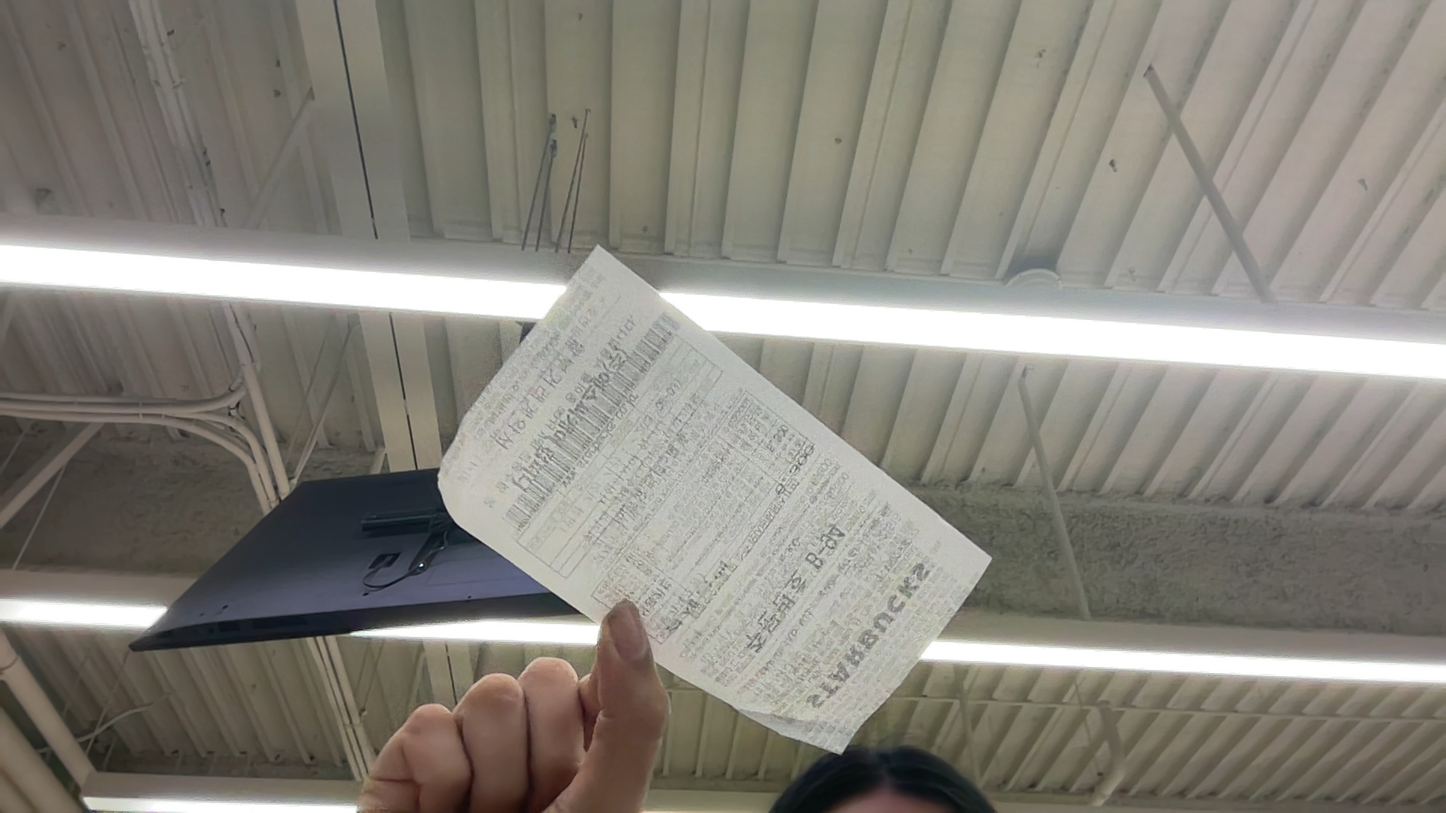Paper: (357, 638, 603, 811)
